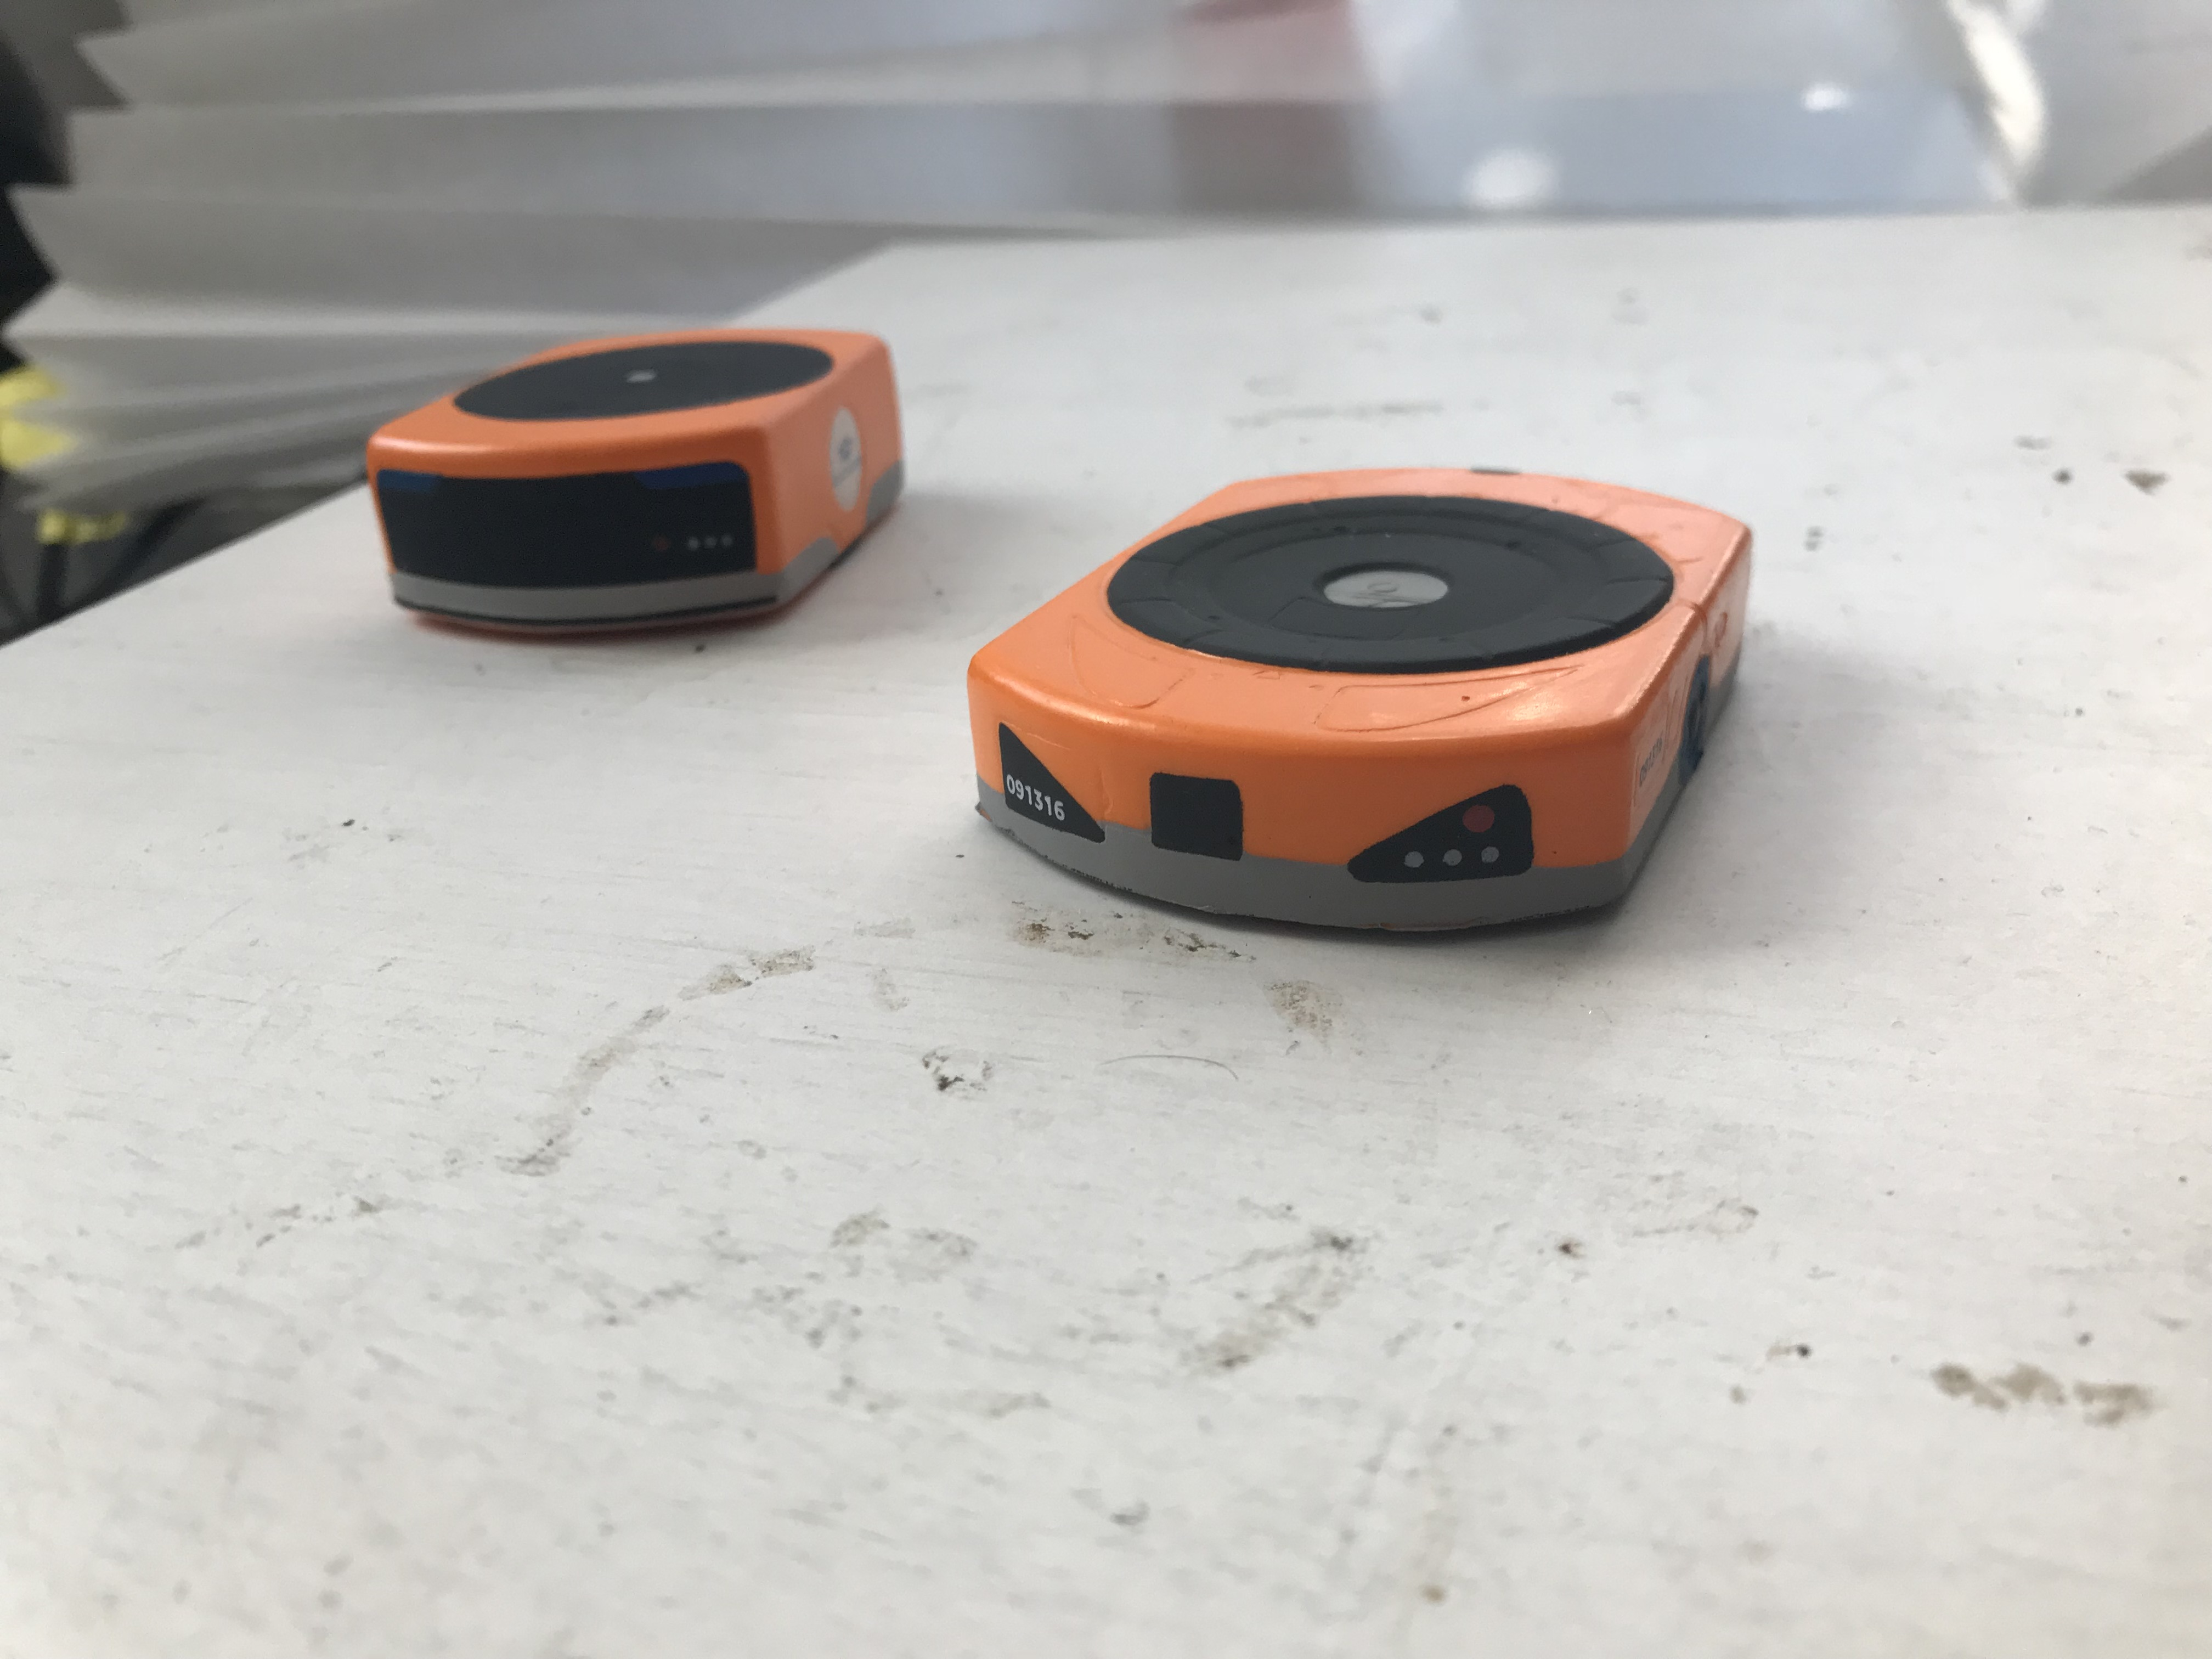amazon_bot: (954, 437, 1787, 972), (355, 305, 944, 660)
